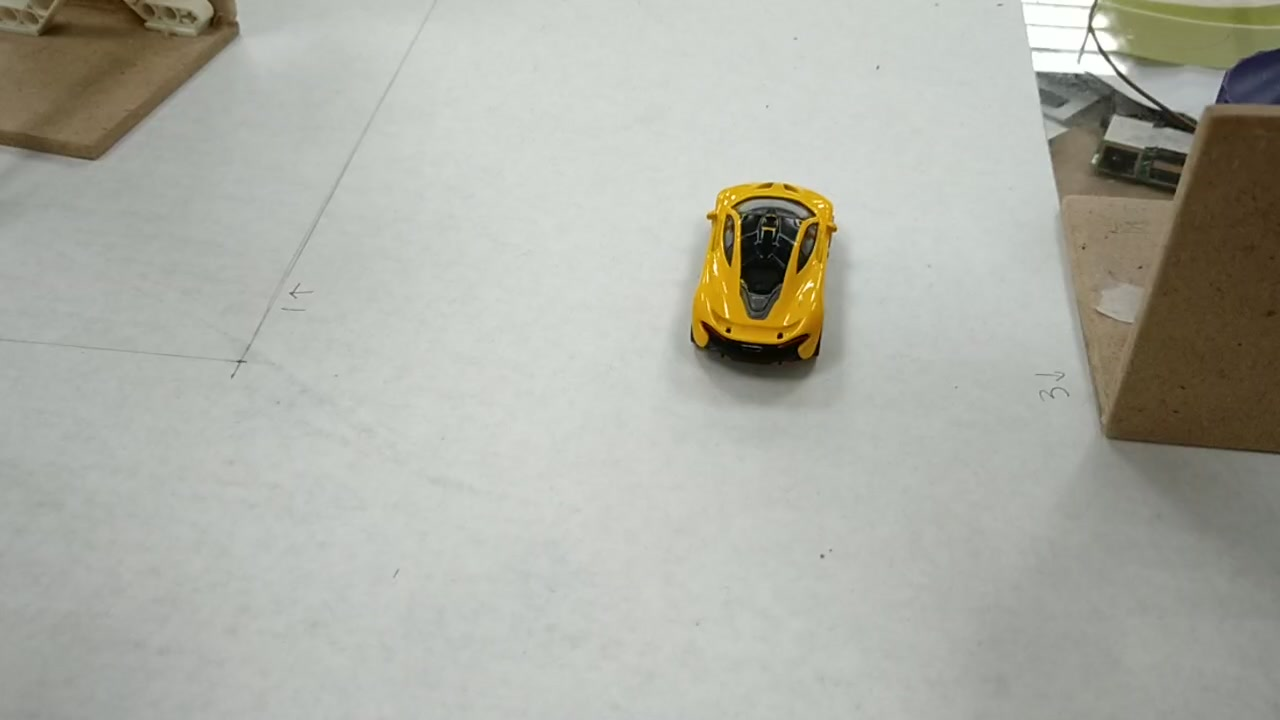car: (687, 186, 842, 349)
